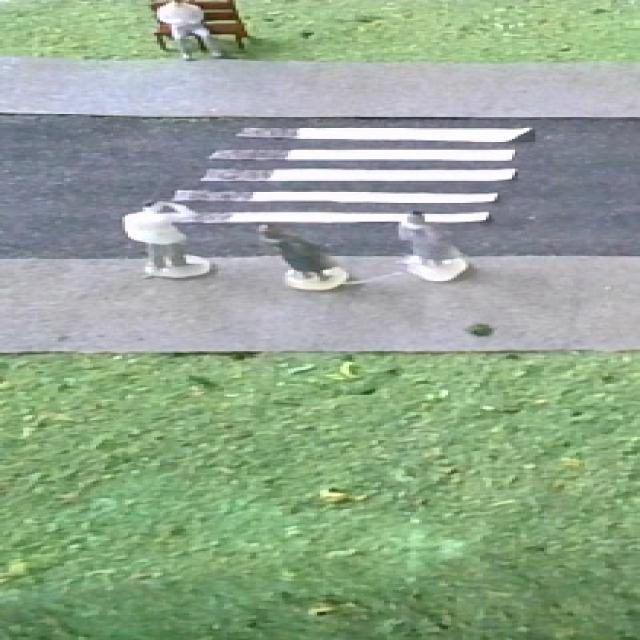person: (120, 199, 218, 280), (251, 219, 354, 294), (394, 206, 474, 284), (147, 0, 230, 64)
